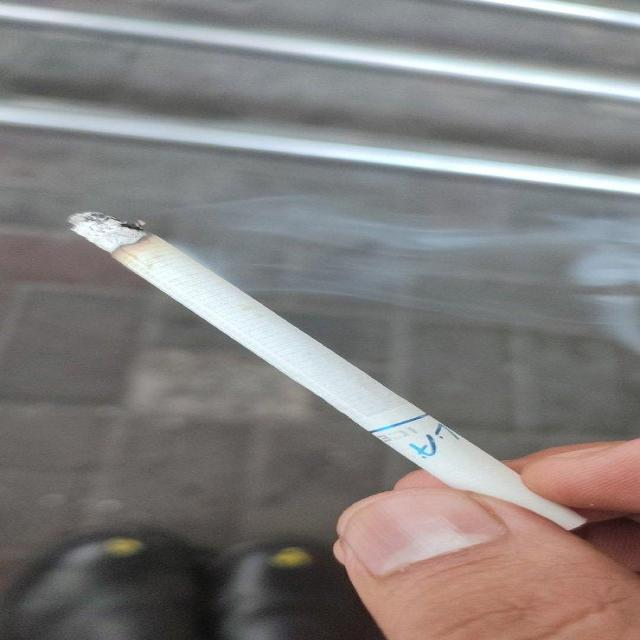rokok: (54, 199, 598, 543)
